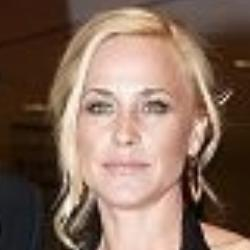face: (35, 6, 224, 227)
